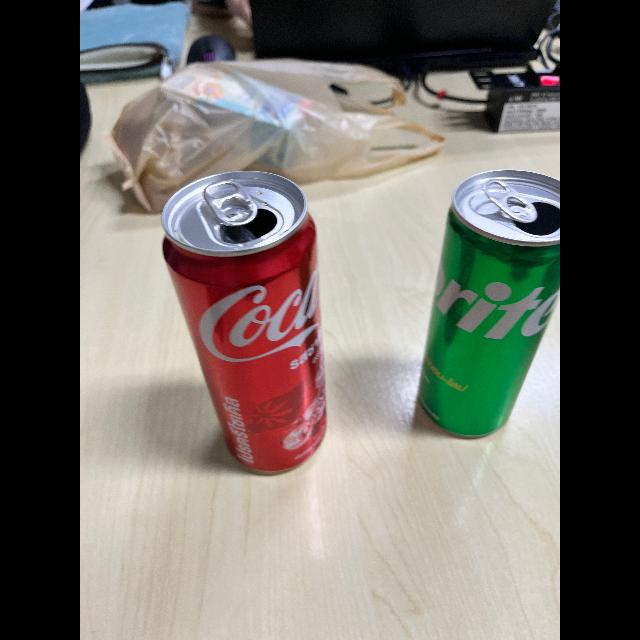can: (154, 154, 346, 484), (400, 152, 560, 438)
